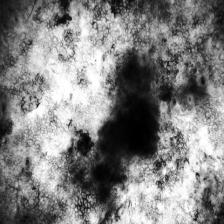Benign Marking or Mole: (72, 60, 177, 201)
